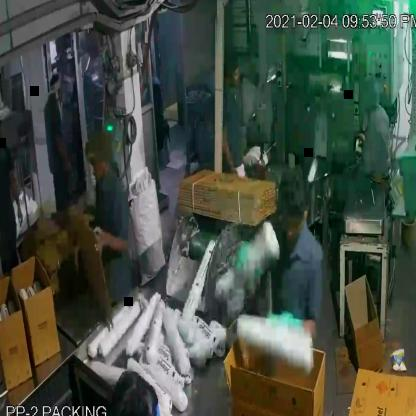no_glove: (7, 160, 32, 238), (83, 216, 127, 260), (49, 123, 78, 181)
